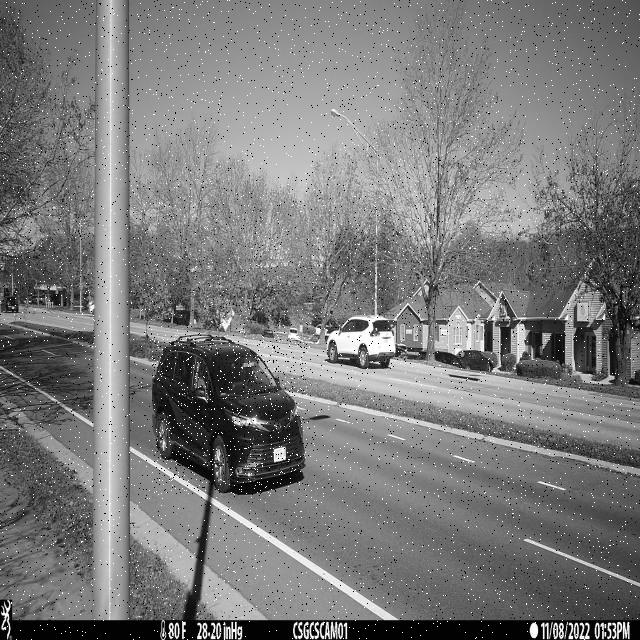Van: (152, 334, 307, 494)
